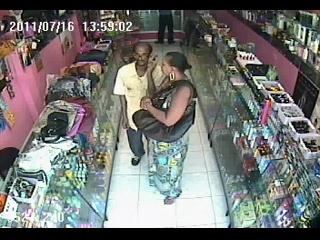Normal: (135, 51, 197, 206), (112, 42, 166, 168), (154, 10, 176, 44), (76, 50, 108, 65)
